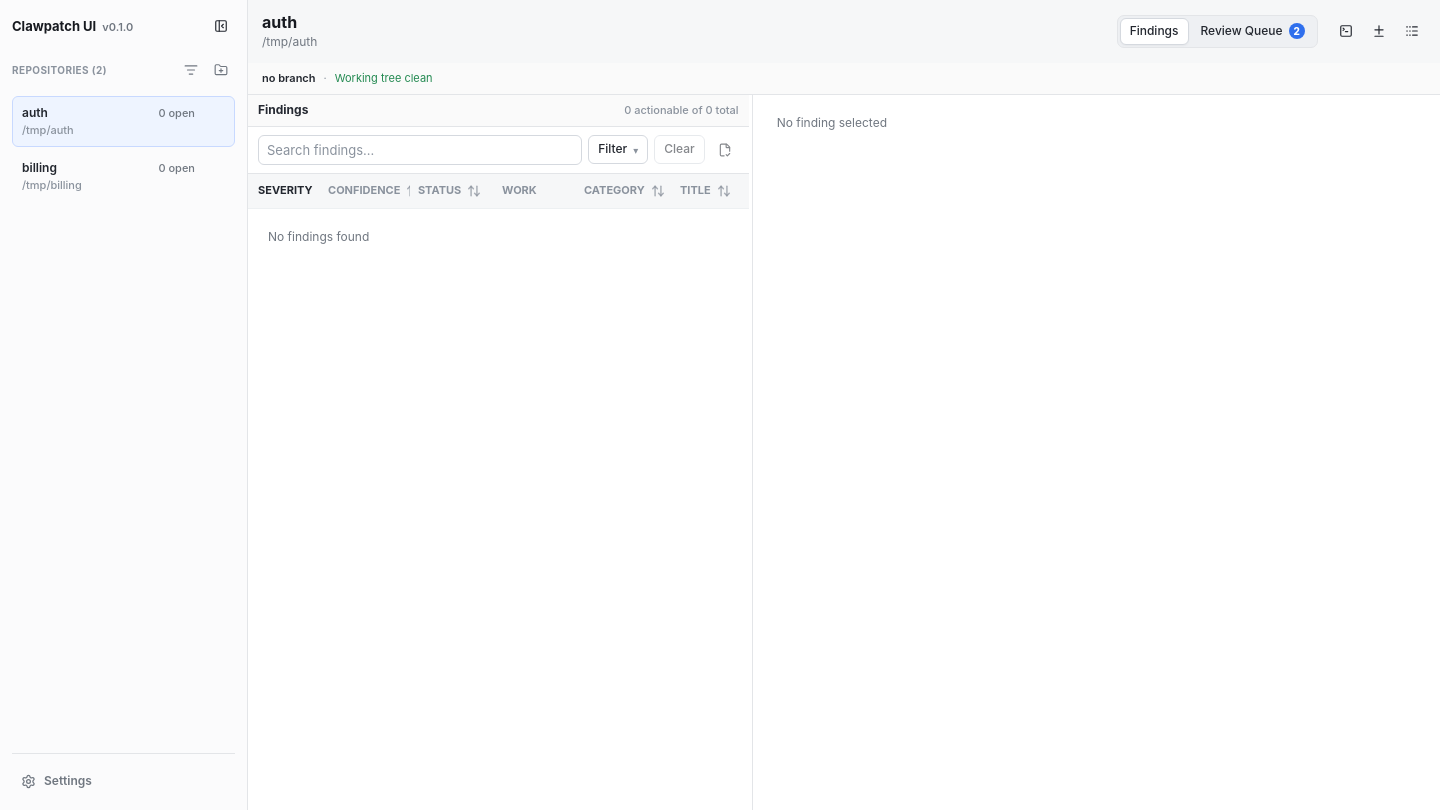
Scenario: ClawpatchApp header actions › saves the selected repository from the sidebar
This screenshot has width=1440, height=810.
Expected: the heading "auth" is shown, [262,12,297,32]
Click the button "billing 0 open /tmp/billing" at (108, 177), box [13,152,204,201]
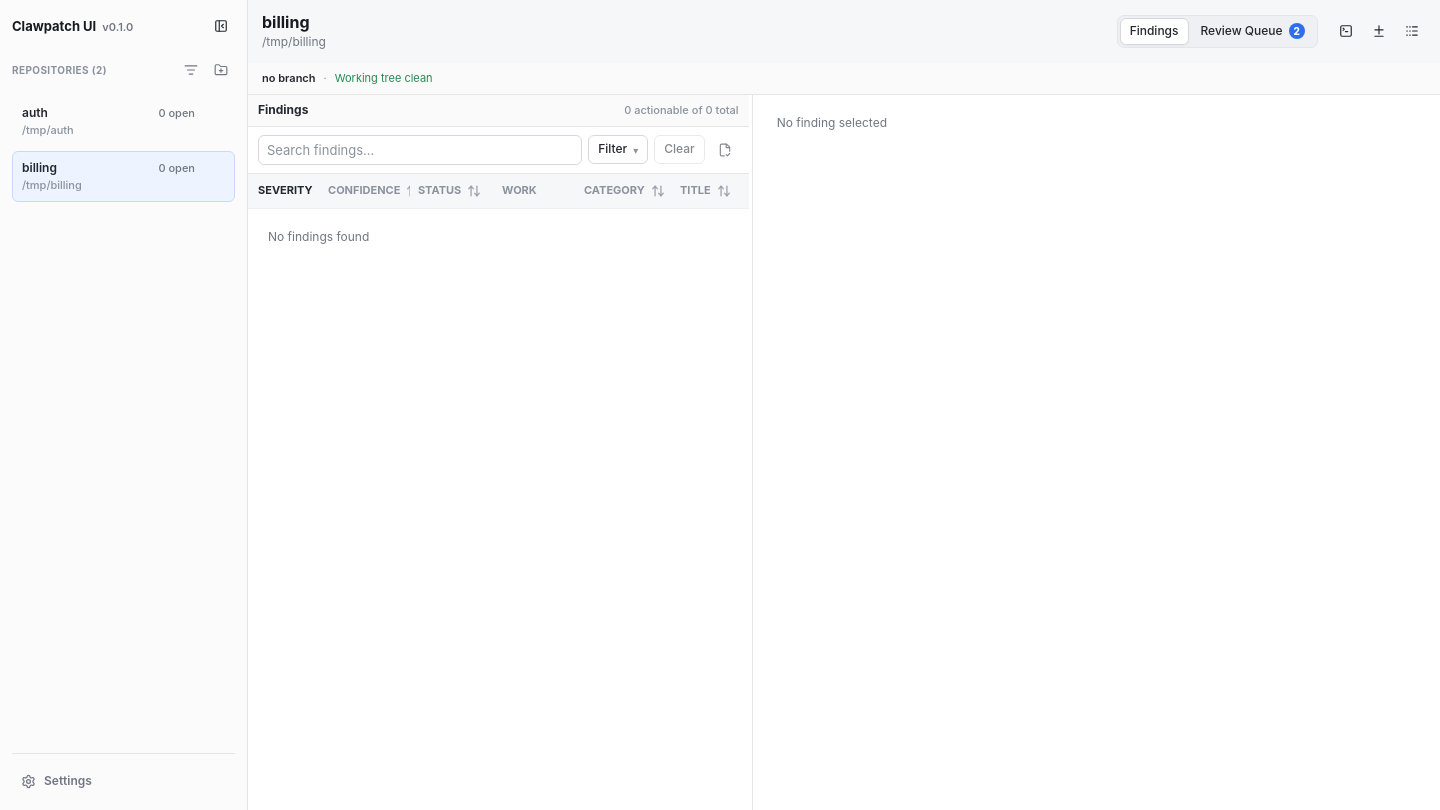
Expected: the heading "billing" is shown, [262,12,310,32]
